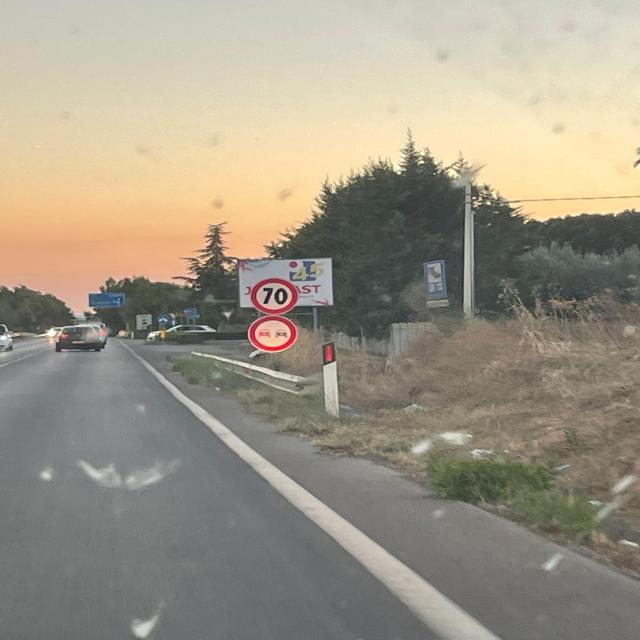forb_overtake: (247, 315, 298, 353)
forb_speed_over_70: (250, 277, 301, 316)
